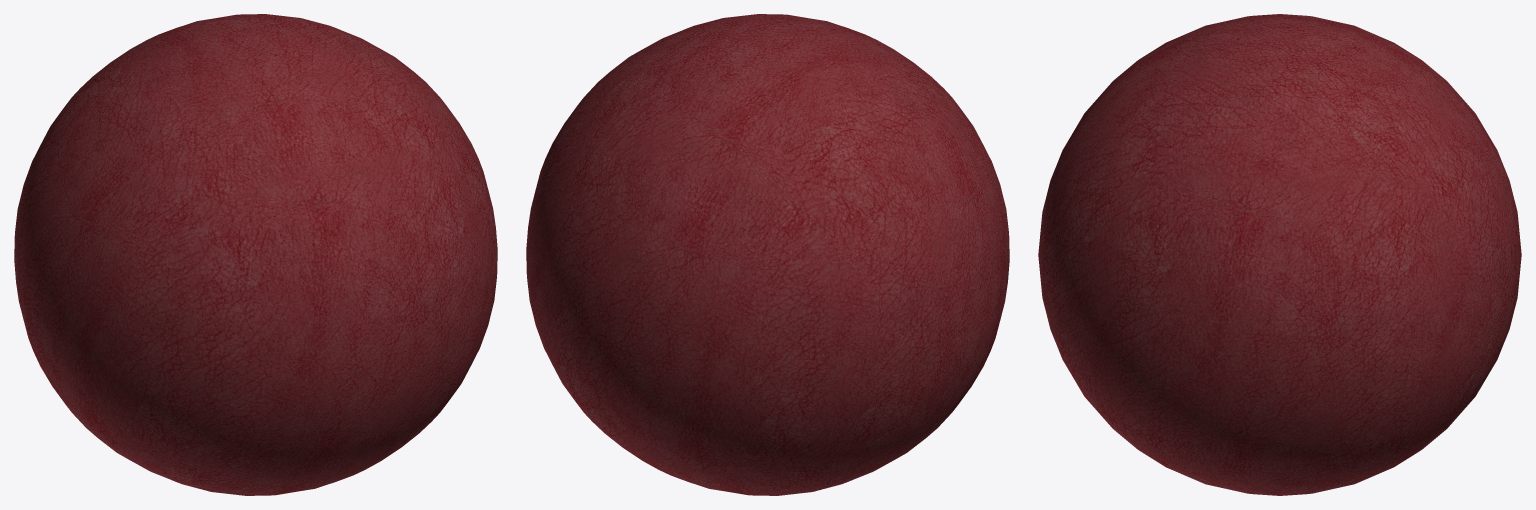
Rendered from ball-lp5.glb.
3 renders of one model, left to right at view 1: azimuth 30°, elevation 25°; view 2: azimuth 150°, elevation 25°; view 3: azimuth 270°, elevation 25°, orthographic.
Parts seen in each view (by area): view 1: lp2; view 2: lp2; view 3: lp2.
Part boxes in pixels (<box>): lp2: <box>14,14,497,495</box>; lp2: <box>526,14,1009,495</box>; lp2: <box>1038,14,1521,495</box>.
Size of the model in its own units: 3 by 3 by 3.
Materials: 1 (1 with a texture image).
